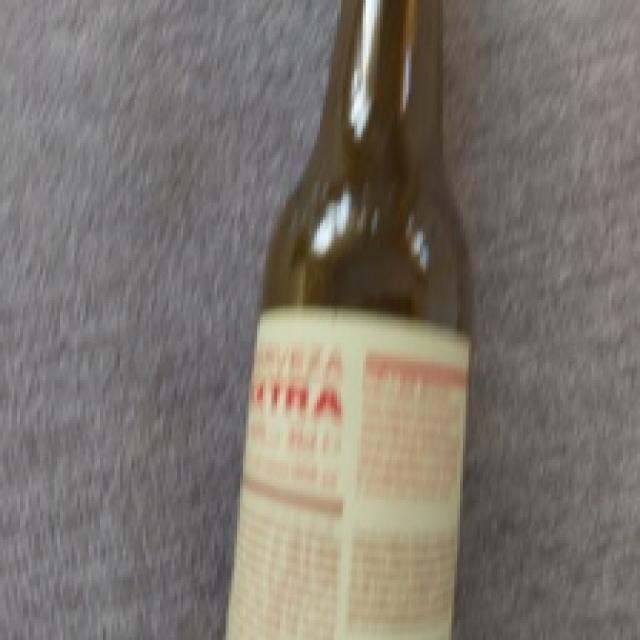garbage: (185, 0, 555, 640)
